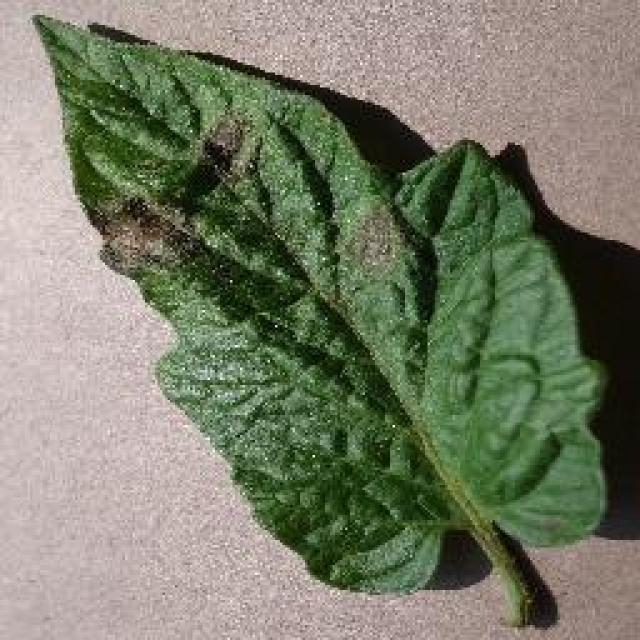Tomato late blight leaf: (34, 8, 614, 595)
